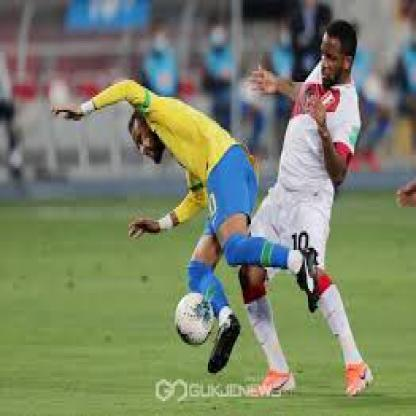Fall_Down: (44, 71, 324, 379)
